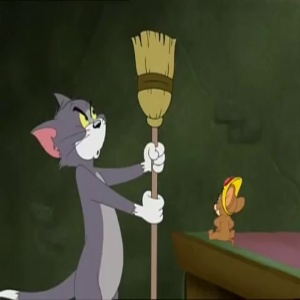Jerry: (209, 182, 246, 217)
Tom: (31, 80, 107, 169)
